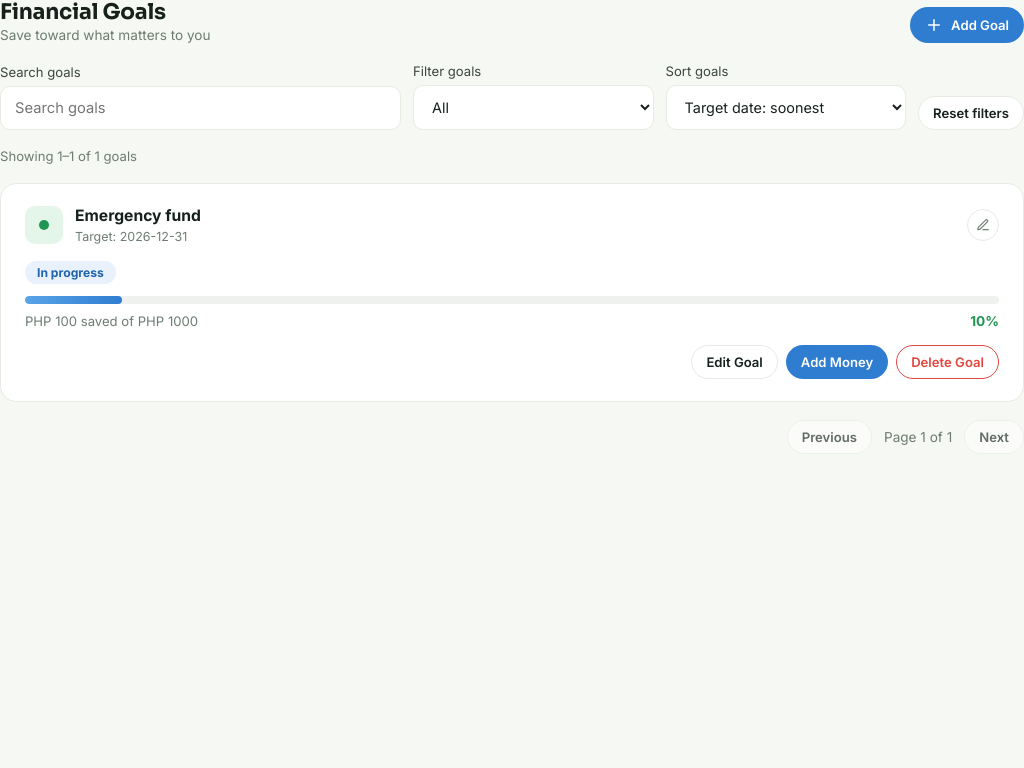
confirms goal deletion and explains that contributions are removed
This screenshot has width=1024, height=768.
What coordinates should you click on to do the following:
click the button with aria-label "Delete Emergency fund"
I would click on:
 (948, 362)
Its box is [896,345,999,379].
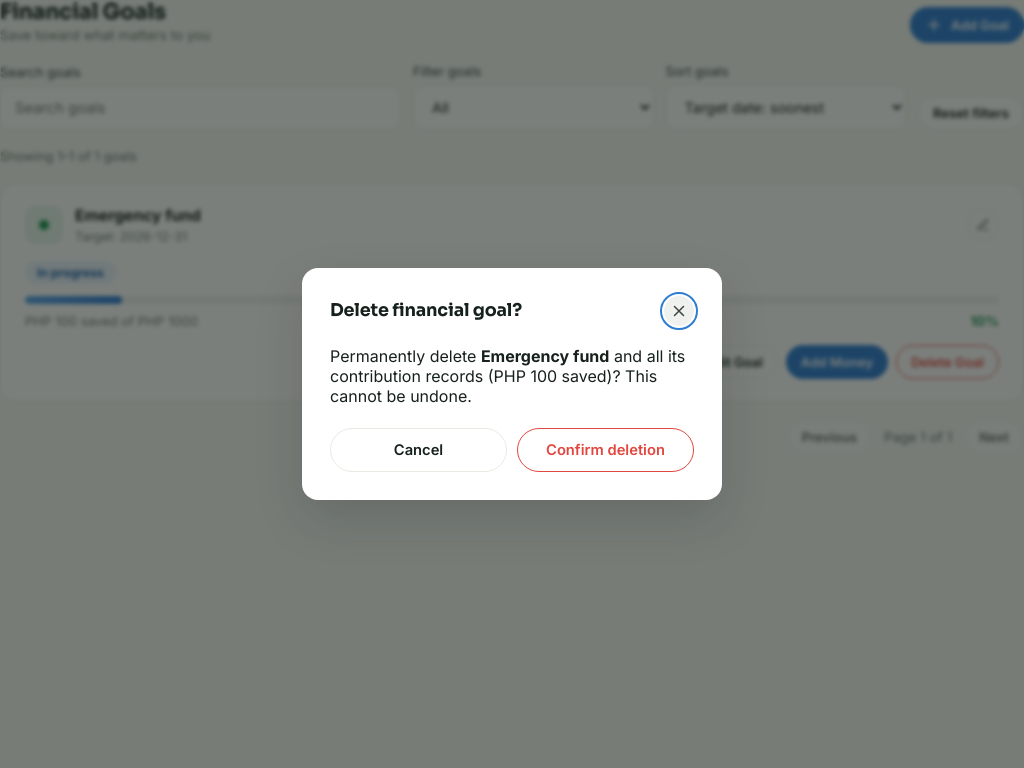
expect the dialog shows "all its contribution records (PHP 100 saved)": met, box [302,268,722,500]
What coordinates should you click on to do the following:
click the button "Cancel"
I would click on:
 (418, 450)
Its box is [330,428,507,472].
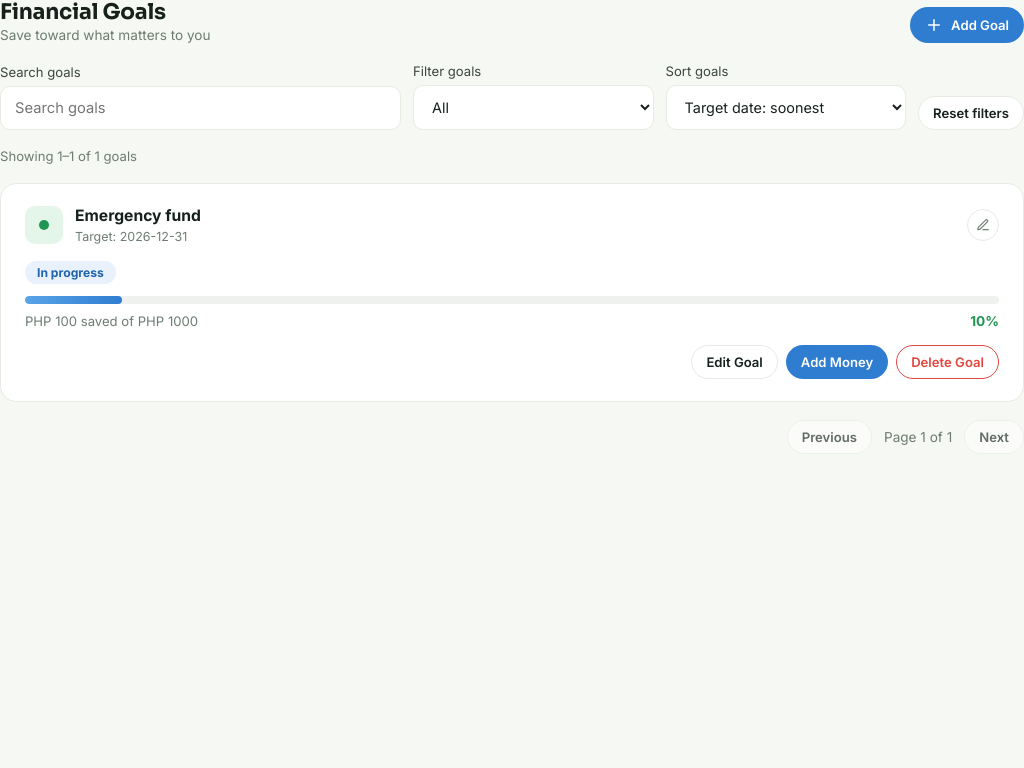
expect the dialog is gone: met
What coordinates should you click on to do the following:
click the button with aria-label "Delete Emergency fund"
I would click on:
 (948, 362)
Its box is [896,345,999,379].
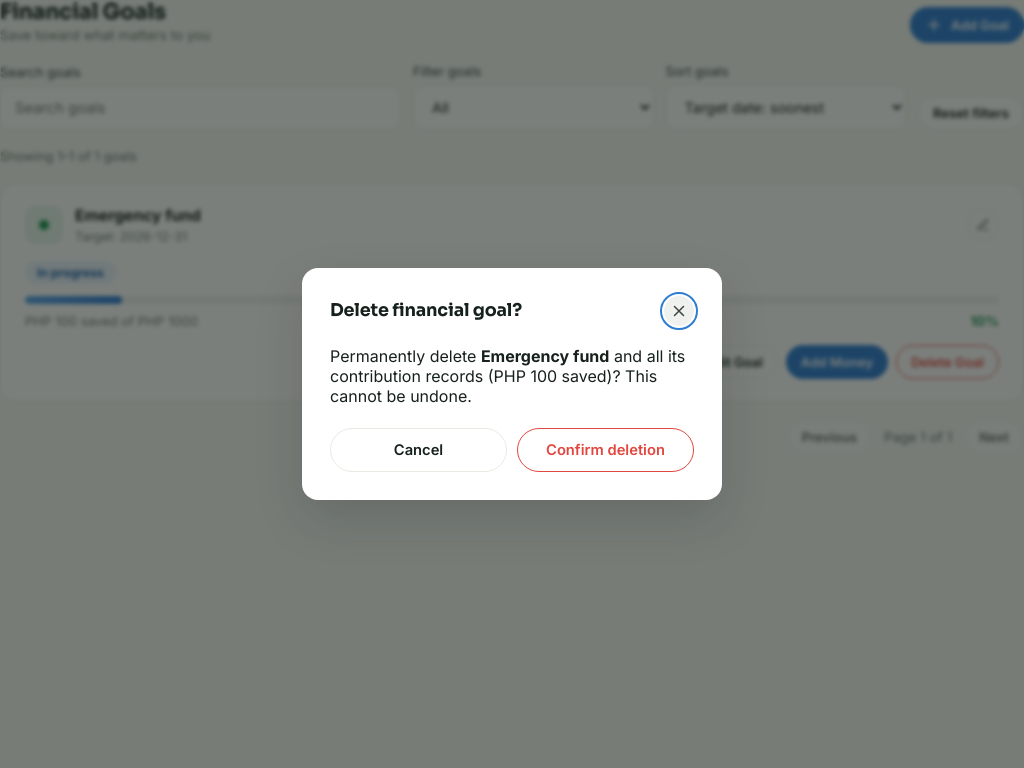
What coordinates should you click on to do the following:
click the button "Confirm deletion"
I would click on:
 (606, 450)
Its box is [517,428,694,472].
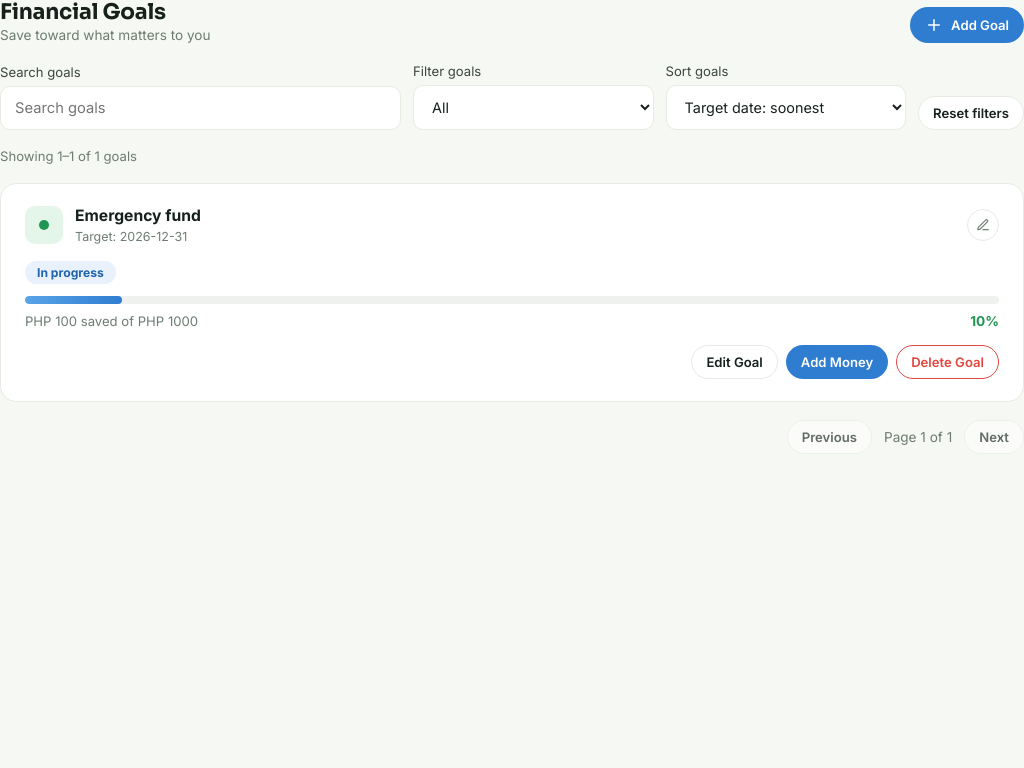
expect the dialog is gone: met
